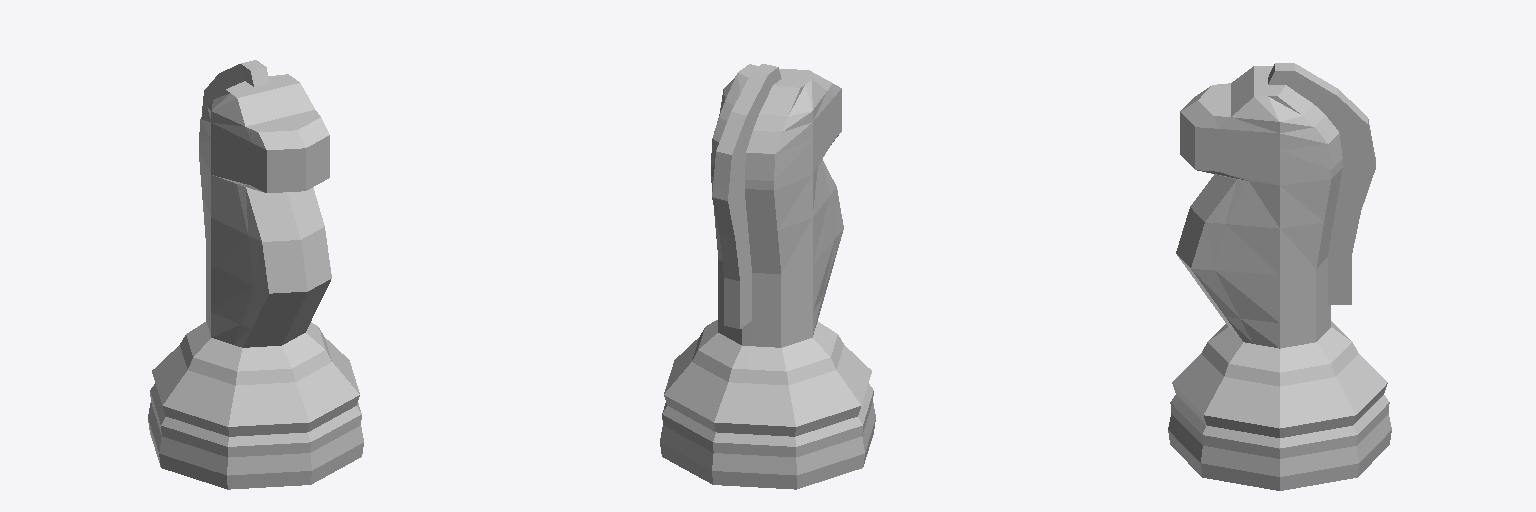
The model's file is Knight.obj.
The picture shows the model from 3 angles: view 1: azimuth 30°, elevation 25°; view 2: azimuth 150°, elevation 25°; view 3: azimuth 270°, elevation 25°; orthographic projection.
Parts seen in each view (by area): view 1: Black_Knight_Cylinder.009; view 2: Black_Knight_Cylinder.009; view 3: Black_Knight_Cylinder.009.
Boxes of the visible parts, x1,y1,x2,y2 form: Black_Knight_Cylinder.009: [148, 60, 363, 489]; Black_Knight_Cylinder.009: [660, 64, 875, 489]; Black_Knight_Cylinder.009: [1168, 63, 1391, 490].
Bounding box in the file's own units: 4.68 × 8.71 × 4.68.